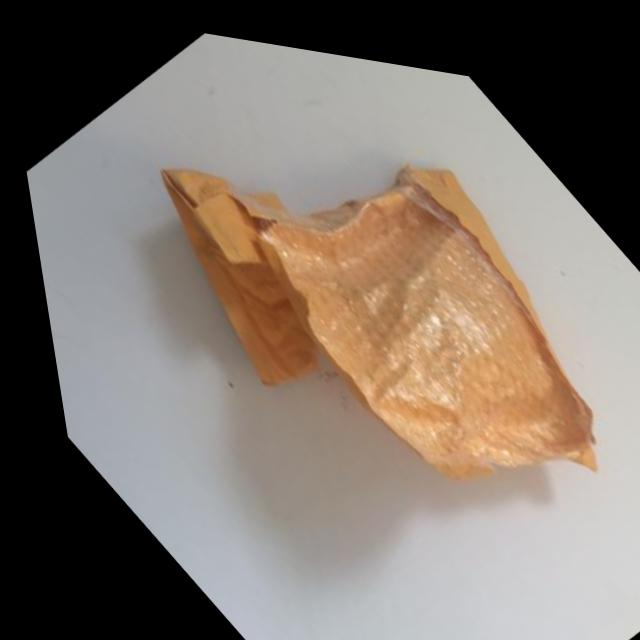trash: (15, 2, 640, 640)
